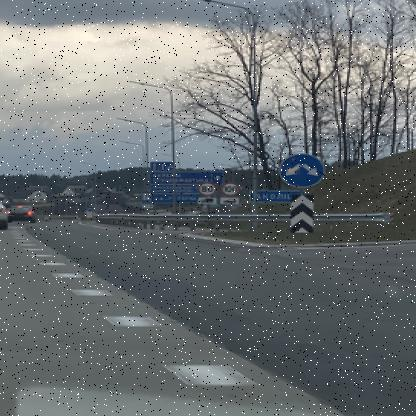speedlimit: (196, 180, 214, 194), (220, 183, 237, 195)
